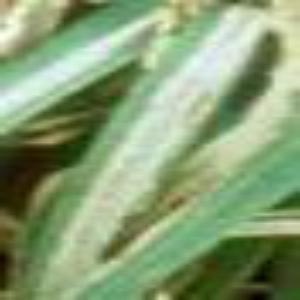Bacterial_Blight: (96, 1, 300, 278)
